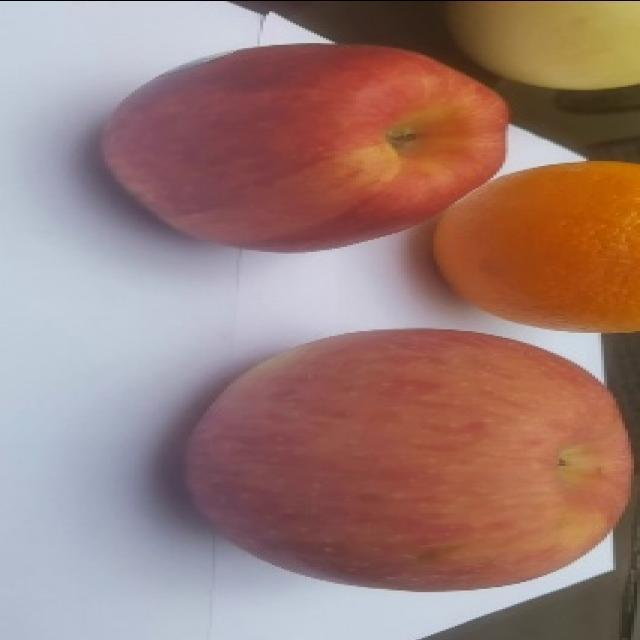Apple: (181, 327, 634, 592), (99, 41, 510, 253)
Orange: (432, 158, 639, 333)
